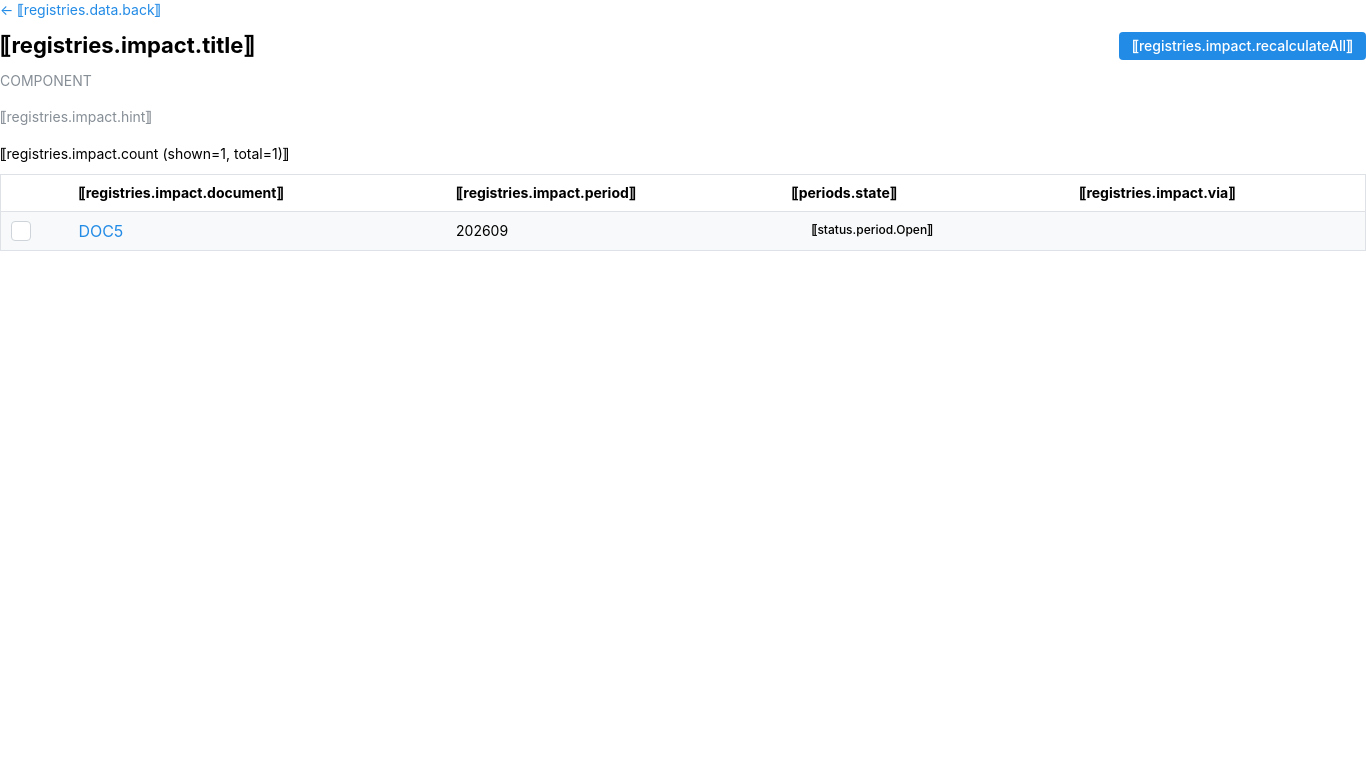
Scenario: RegistryImpactPage: опитування задачі після відмови (L9-41) › 403 на читання задачі — одне читання, а не безкінечне опитування
Check: the link "DOC5" is shown, box [78, 221, 123, 241]
Click the button "⟦registries.impact.recalculateAll⟧".
click(1242, 46)  # box [1119, 32, 1365, 60]
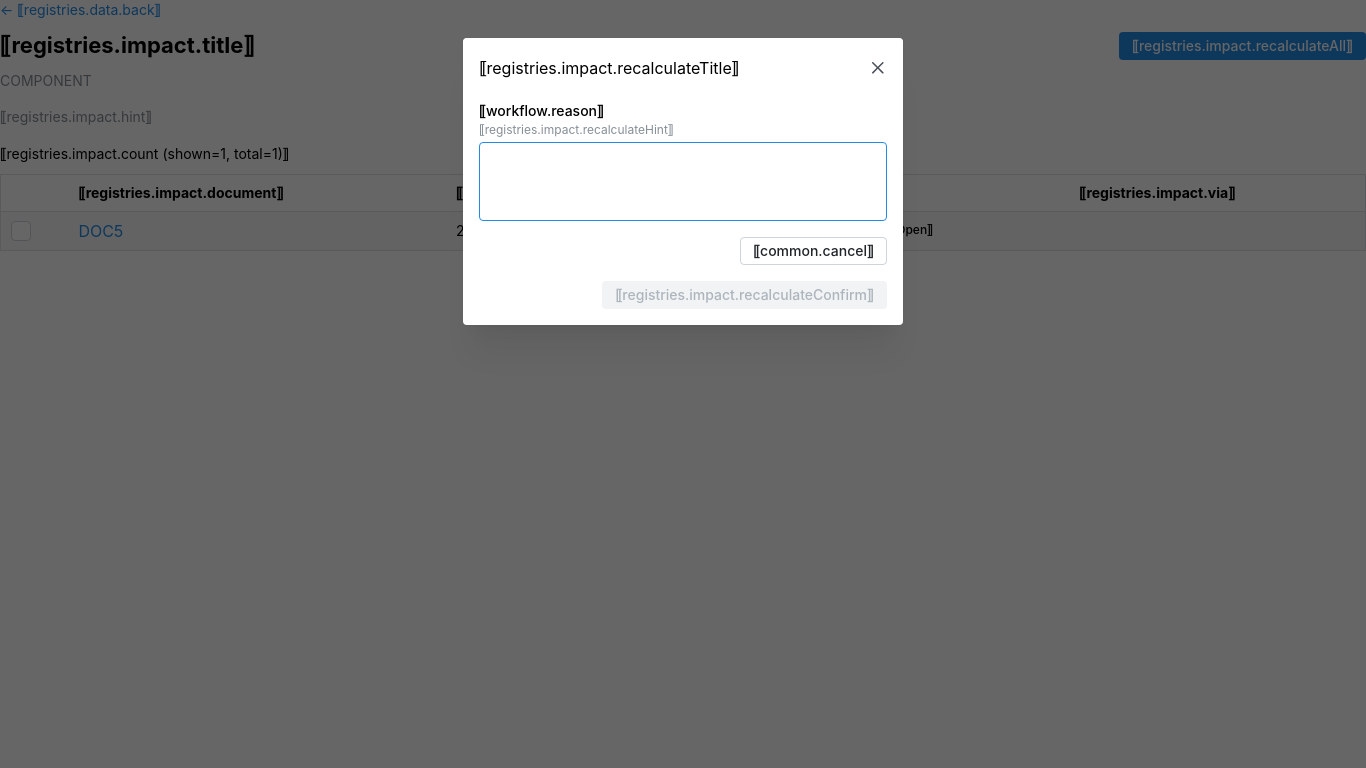
Type "причина" into the text box.
click(683, 182); type("причина")  # box [479, 143, 887, 222]
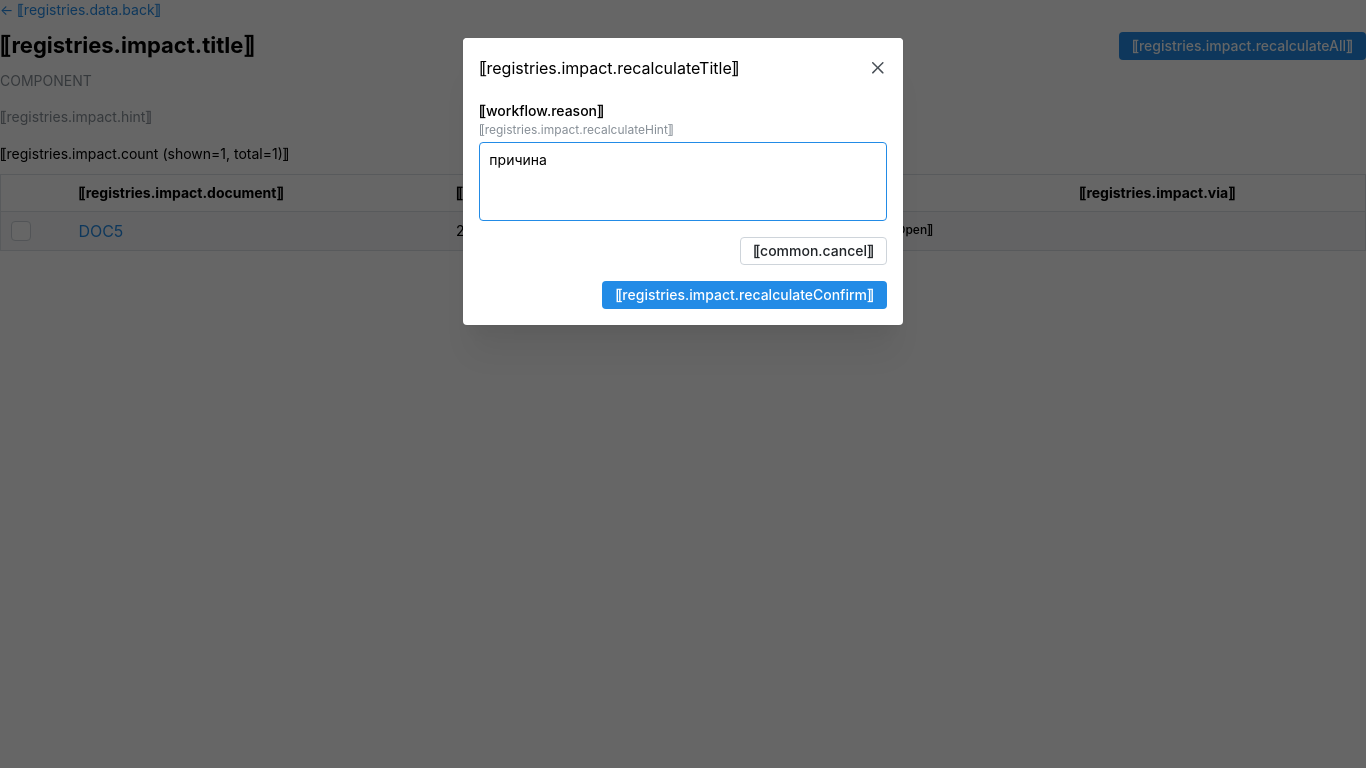
Click the button "⟦registries.impact.recalculateConfirm⟧".
click(745, 296)  # box [602, 282, 887, 310]
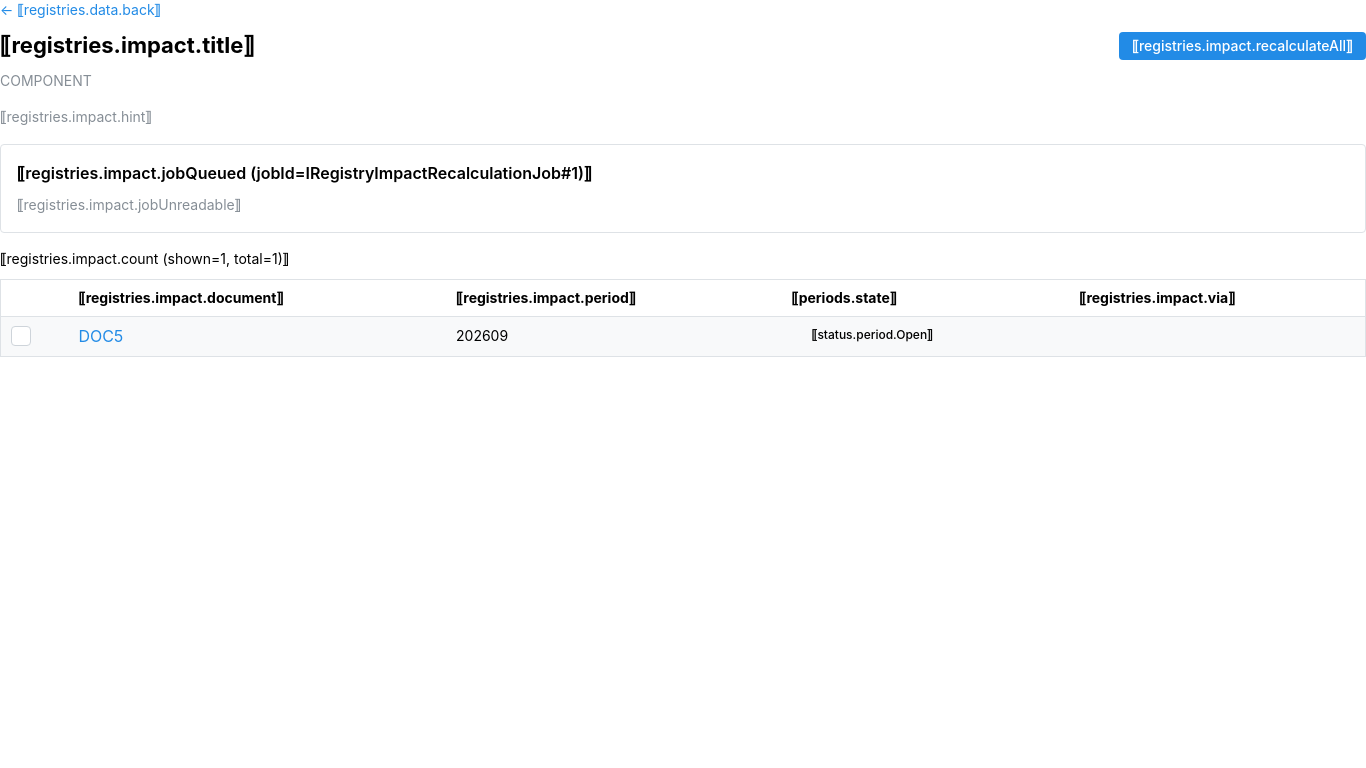
Check: the text "⟦registries.impact.jobUnreadable⟧" is shown, box [17, 196, 241, 214]
